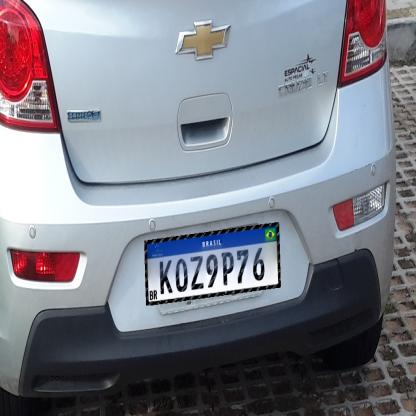PlacaM: (144, 222, 281, 306)
